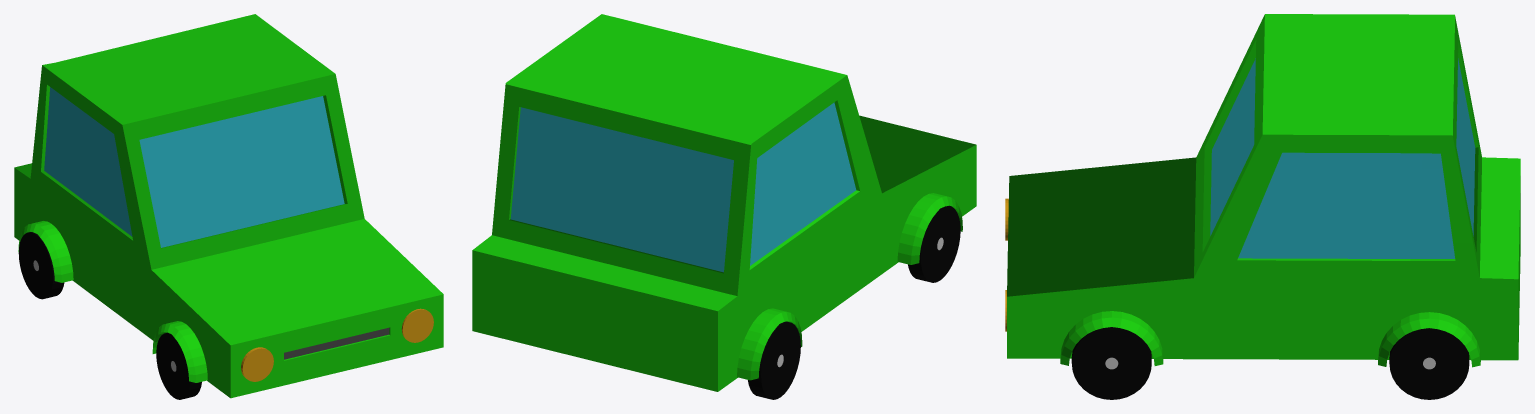
The model's file is Voiture 2.obj.
3 views of the same model, side by side, from view 1: azimuth 30°, elevation 25°; view 2: azimuth 150°, elevation 25°; view 3: azimuth 270°, elevation 25° (orthographic). The views are drawn at different scales.
Visible parts, largest first — view 1: Cube, Cylinder.009, Cylinder.008, Cylinder.002, Cylinder.003, Cylinder.007, Cylinder.006; view 2: Cube, Cylinder.009, Cylinder.008, Cylinder.002, Cylinder.003; view 3: Cube, Cylinder.005, Cylinder.004, Cylinder, Cylinder.001.
Part boxes in pixels (bbox=[...]): Cube: bbox=[14, 14, 443, 398]; Cylinder.009: bbox=[18, 232, 64, 299]; Cylinder.008: bbox=[156, 332, 201, 399]; Cylinder.002: bbox=[152, 321, 207, 382]; Cylinder.003: bbox=[18, 221, 73, 282]; Cylinder.007: bbox=[241, 347, 273, 381]; Cylinder.006: bbox=[401, 308, 433, 342]; Cube: bbox=[472, 14, 976, 391]; Cylinder.009: bbox=[748, 321, 800, 399]; Cylinder.008: bbox=[908, 205, 960, 282]; Cylinder.002: bbox=[897, 193, 962, 264]; Cylinder.003: bbox=[737, 308, 802, 380]; Cube: bbox=[1007, 14, 1520, 360]; Cylinder.005: bbox=[1071, 327, 1151, 399]; Cylinder.004: bbox=[1389, 328, 1469, 399]; Cylinder: bbox=[1060, 311, 1163, 365]; Cylinder.001: bbox=[1378, 312, 1480, 367].
Bounding box in the file's own units: 2.31 × 1.99 × 3.61.
